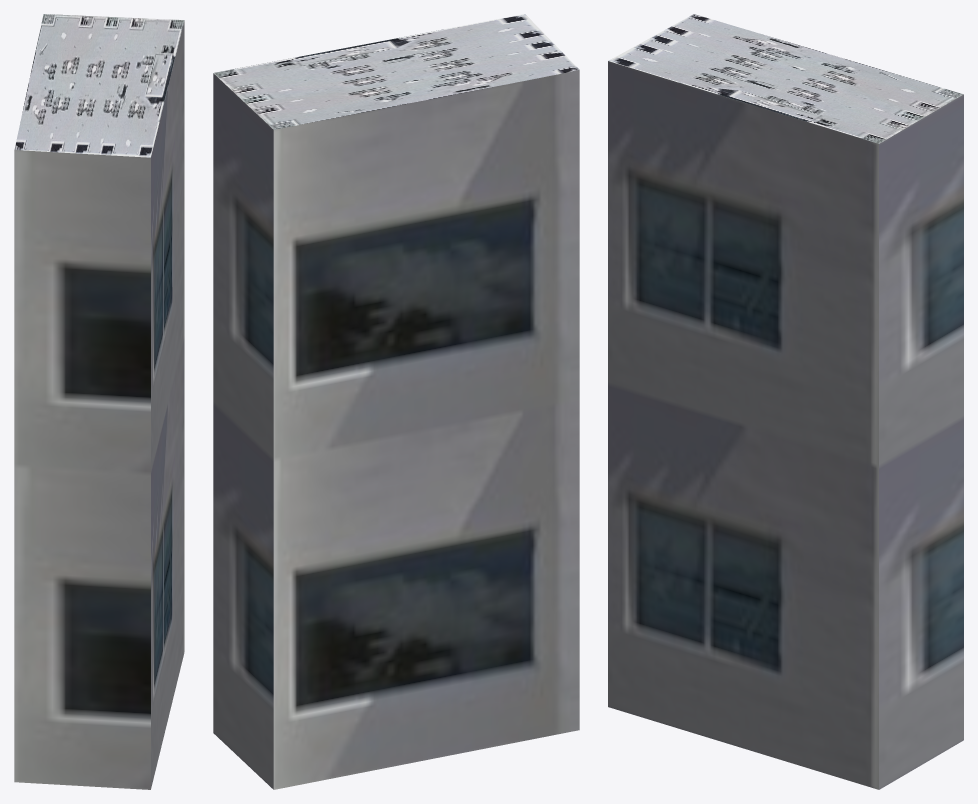
File: ResTex__1976.fbx
The picture shows the model from 3 angles, left to right: view 1: azimuth 30°, elevation 25°; view 2: azimuth 150°, elevation 25°; view 3: azimuth 270°, elevation 25°; orthographic projection. The views are drawn at different scales.
Visible parts, largest first — view 1: CityEngineMaterial_10_m, CityEngineMaterial_4_m; view 2: CityEngineMaterial_10_m, CityEngineMaterial_4_m; view 3: CityEngineMaterial_10_m, CityEngineMaterial_4_m.
Boxes of the visible parts, <box> form: CityEngineMaterial_10_m: <box>14,20,184,789</box>; CityEngineMaterial_4_m: <box>14,14,184,157</box>; CityEngineMaterial_10_m: <box>213,70,579,789</box>; CityEngineMaterial_4_m: <box>213,14,579,129</box>; CityEngineMaterial_10_m: <box>608,61,963,789</box>; CityEngineMaterial_4_m: <box>608,14,963,143</box>.
Size of the model in its own units: 2.59 by 6 by 2.99.
2 materials, 2 textured.
